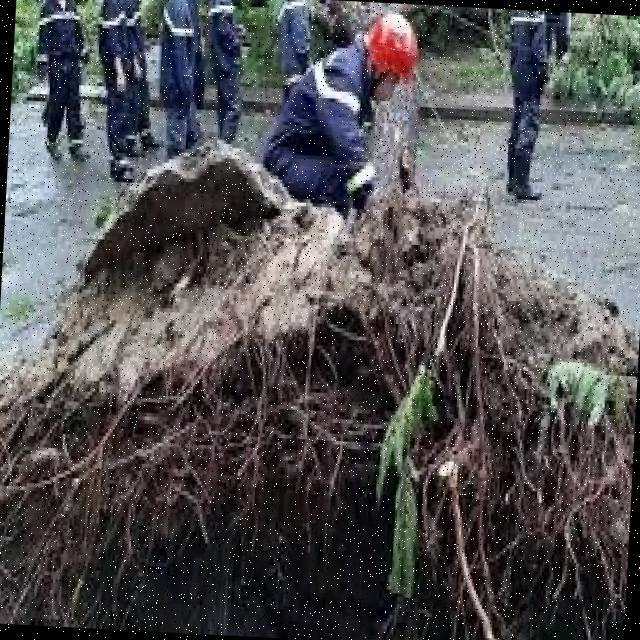fallen_object: (269, 0, 502, 564)
